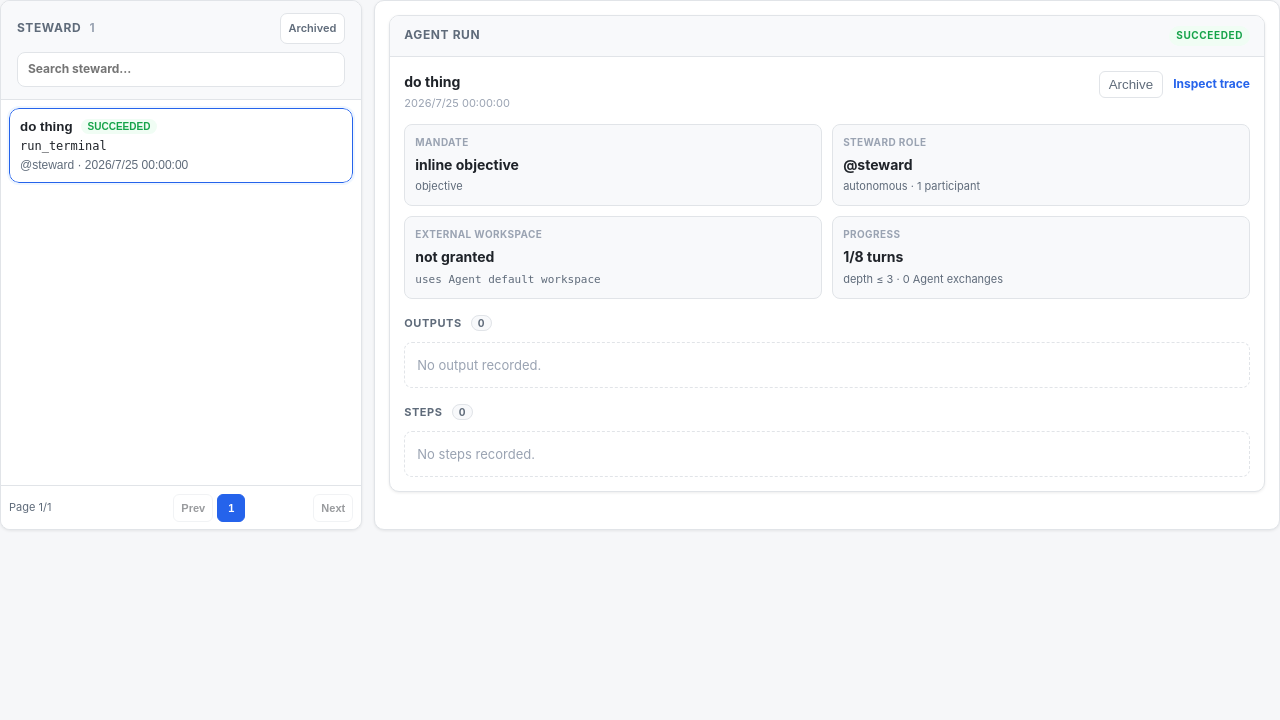
Test: StewardView › archives terminal Runs and switches to the archived view
Click the button with class "archive-button" at (1131, 84), box [1099, 70, 1163, 98]
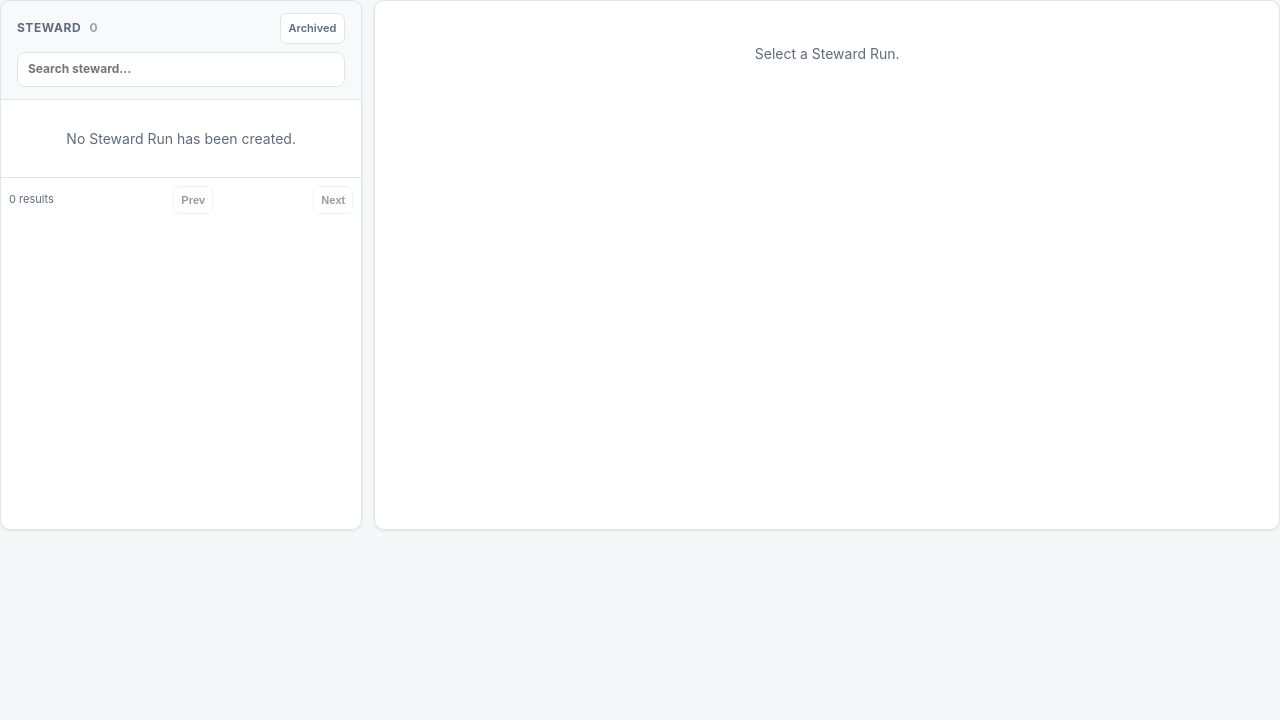
Expected: the text "No Steward Run has been created" is shown, [66, 130, 296, 147]
Click the button with class "archive-filter" at (312, 28), box [280, 13, 345, 44]
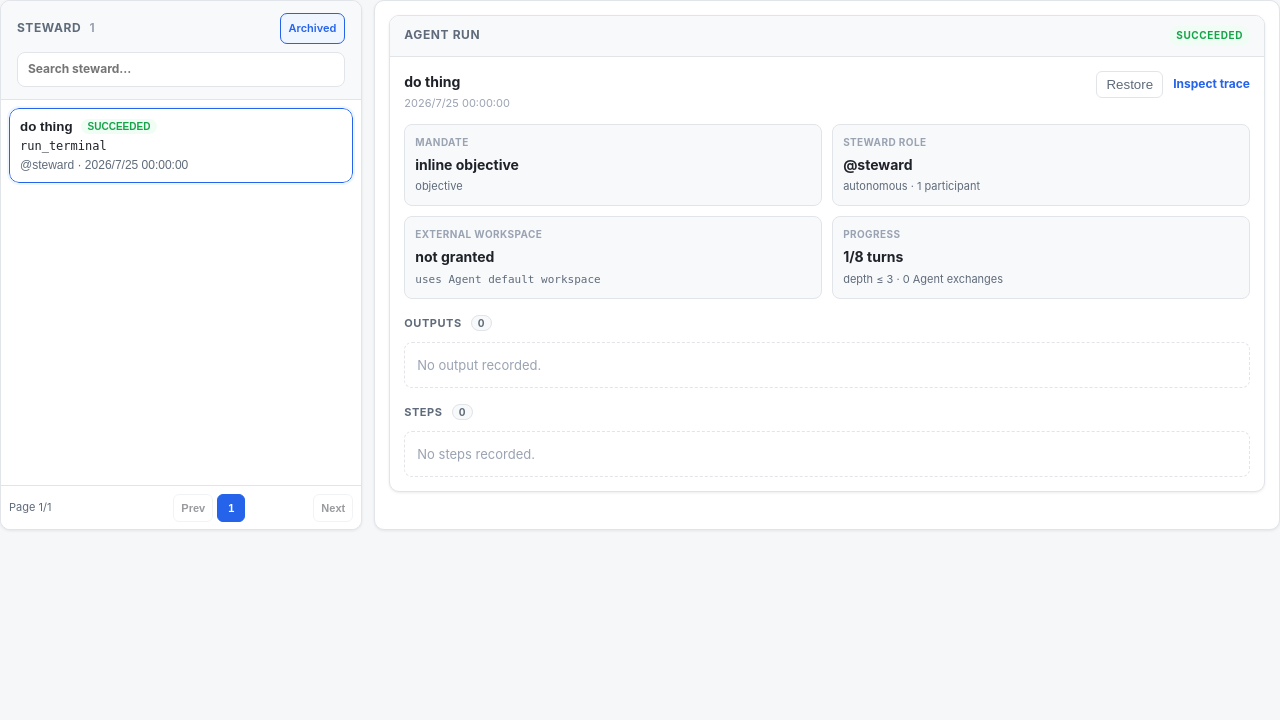
Expected: the button with class "operation-row" shows "run_terminal", [9, 108, 353, 183]
Expected: the button with class "archive-button" reads "Restore", [1096, 70, 1163, 98]
